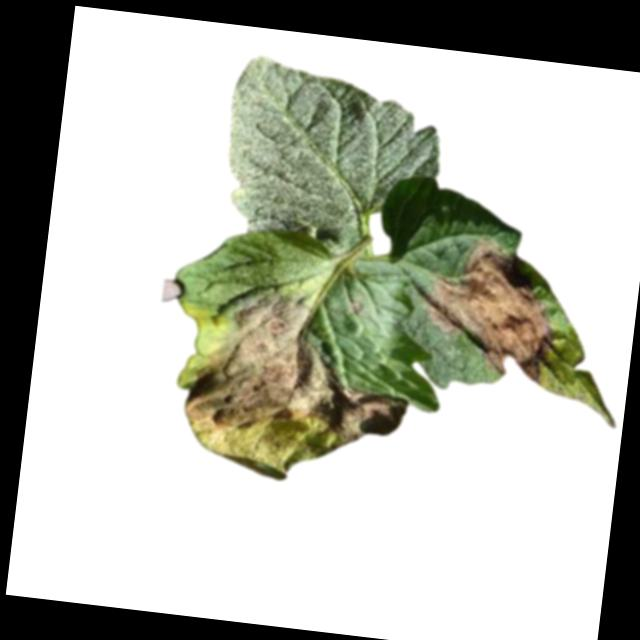Late_blight: (176, 288, 419, 495), (416, 230, 564, 387)
healthy: (215, 51, 451, 255)
